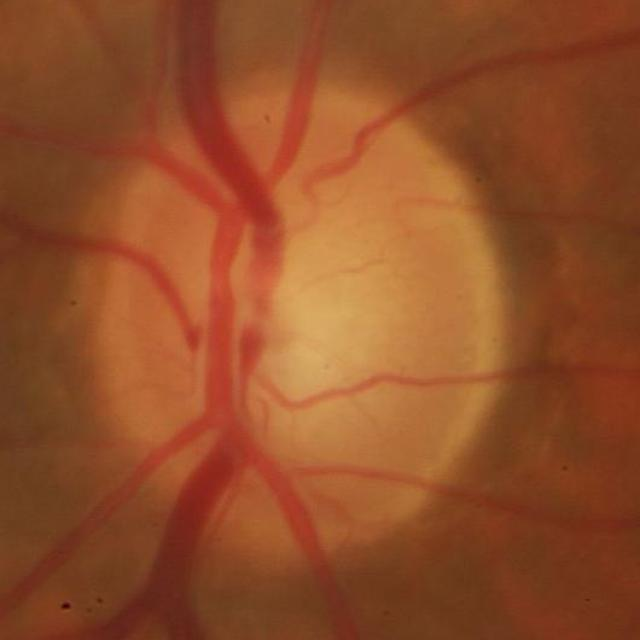OC: (228, 213, 396, 423)
OD: (88, 85, 504, 558)
